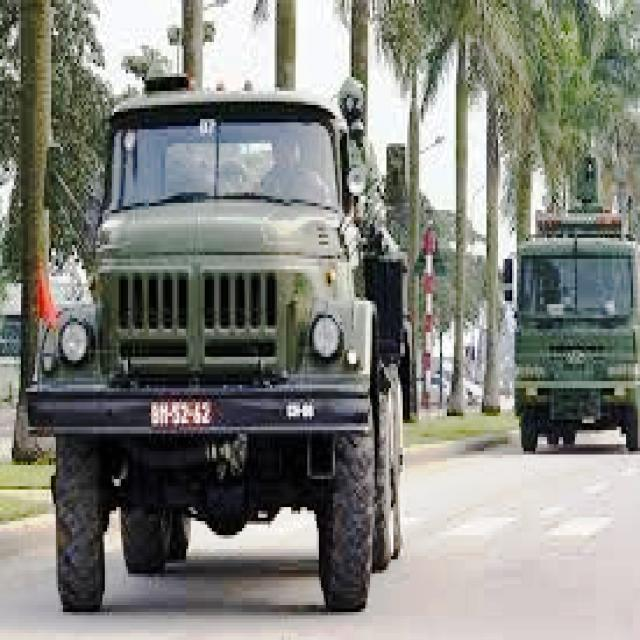license_plate: (147, 395, 212, 432)
